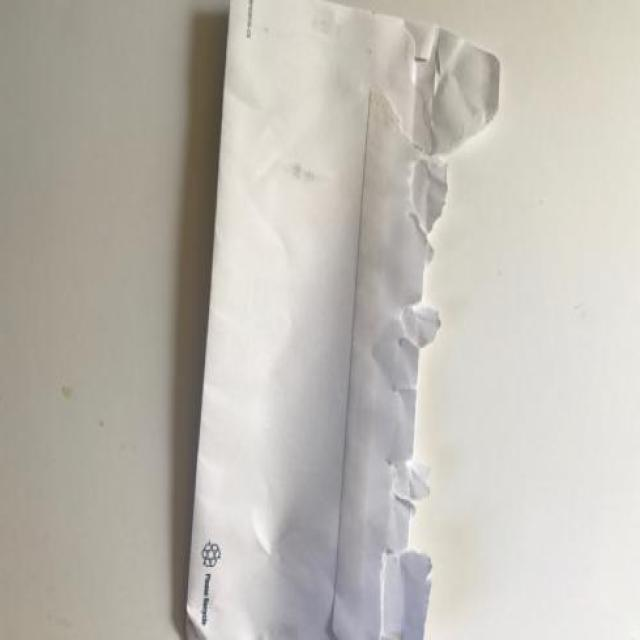kertas: (184, 0, 500, 640)
